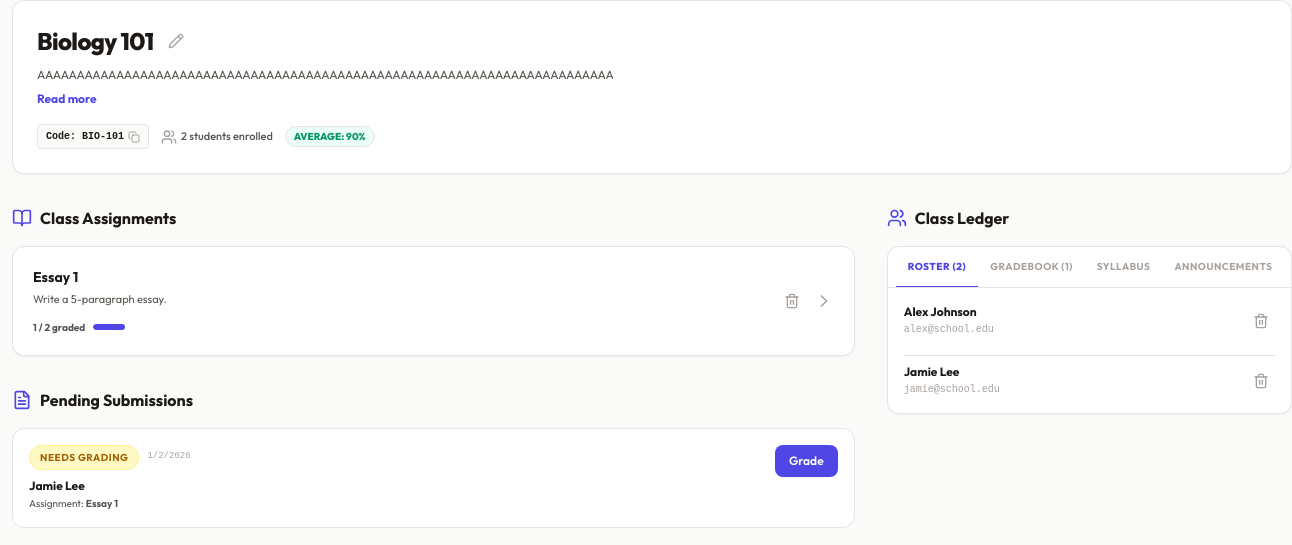
it: TeacherClassDetailPage › toggles a long description between clamped and expanded
What coordinates should you click on to do the following:
click the button "Read more"
I would click on:
 (67, 98)
Its box is [37, 88, 97, 108].
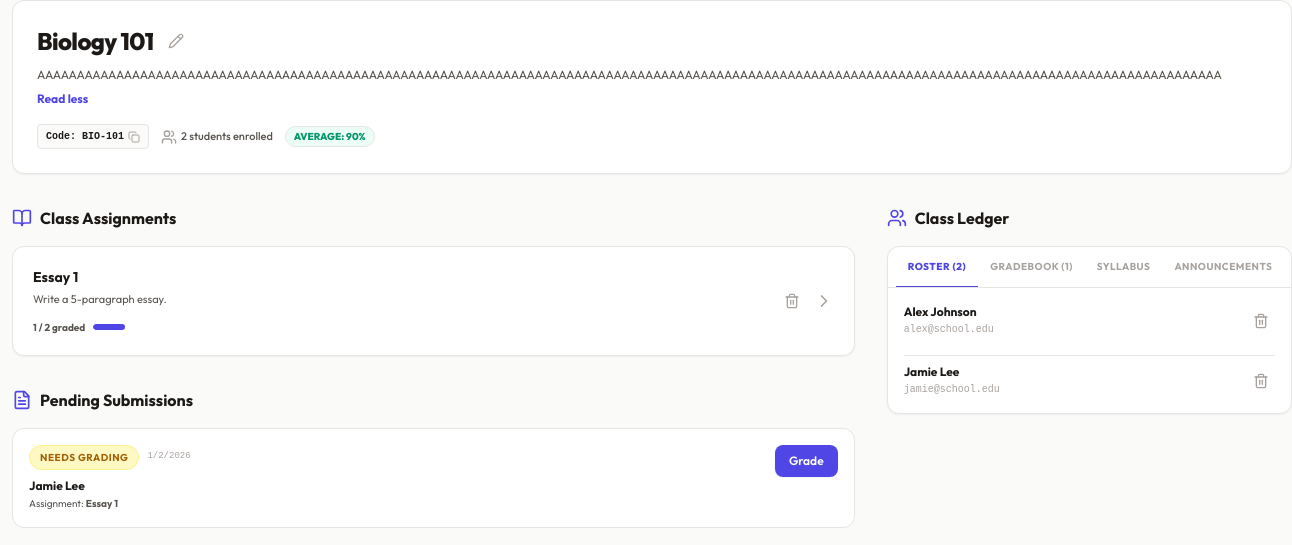
Now the button "Read less" is shown
What coordinates should you click on to do the following:
click the button "Read less"
I would click on:
 (63, 98)
Its box is [37, 88, 88, 108].
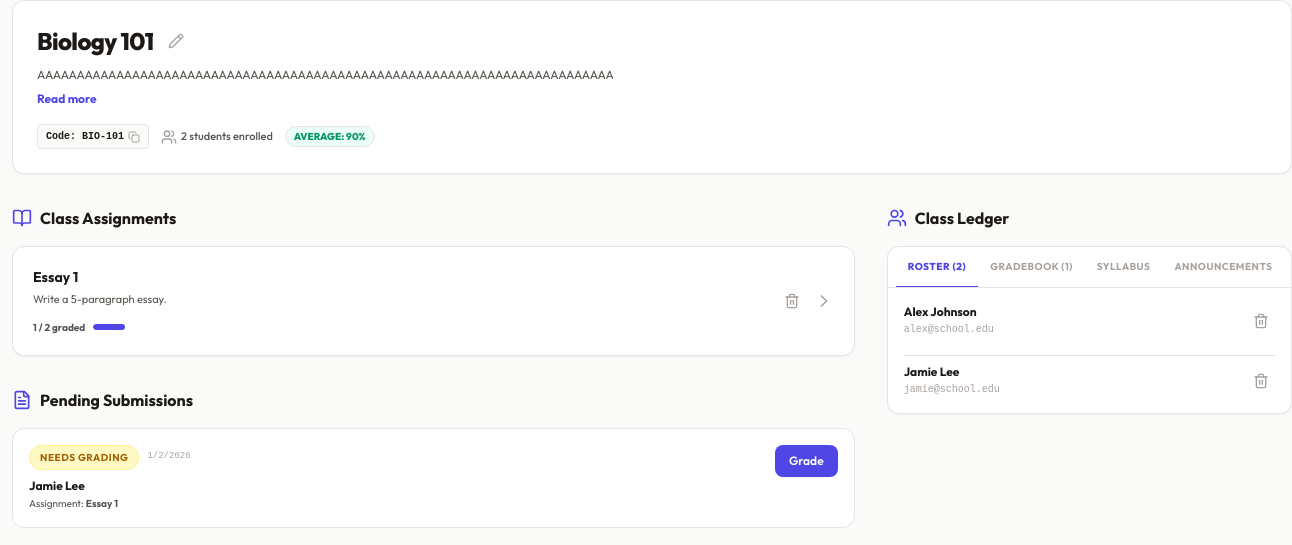
Now the button "Read more" is shown, box [37, 88, 97, 108]
